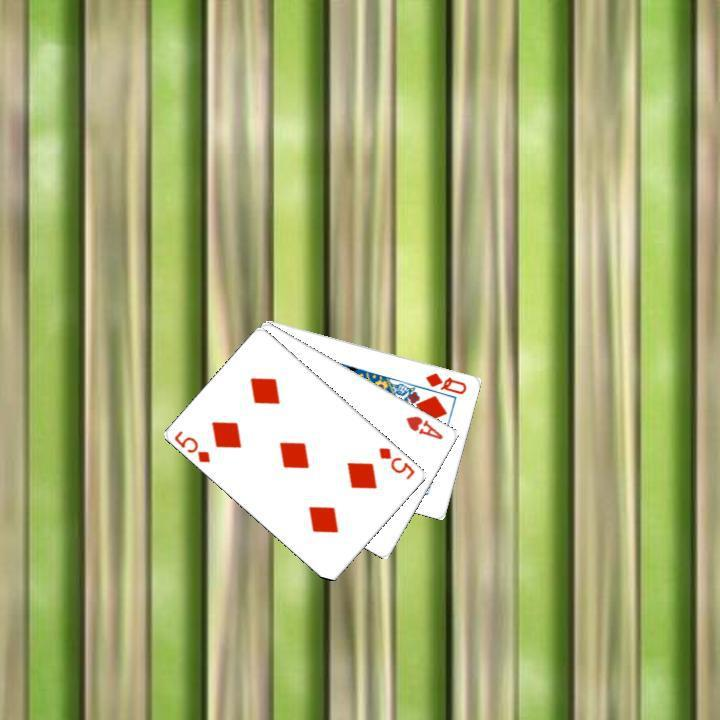5: (170, 426, 213, 465), (375, 443, 417, 482)
A: (402, 411, 445, 441)
Q: (421, 368, 469, 396)
